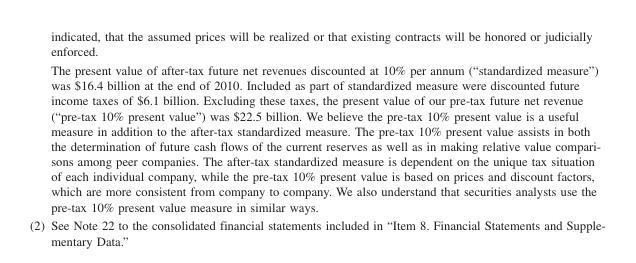table: (29, 28, 604, 232)
table column: (46, 28, 604, 232), (29, 28, 46, 232)
table column header: (29, 28, 604, 215)
table row: (29, 28, 604, 215), (29, 215, 604, 232)
